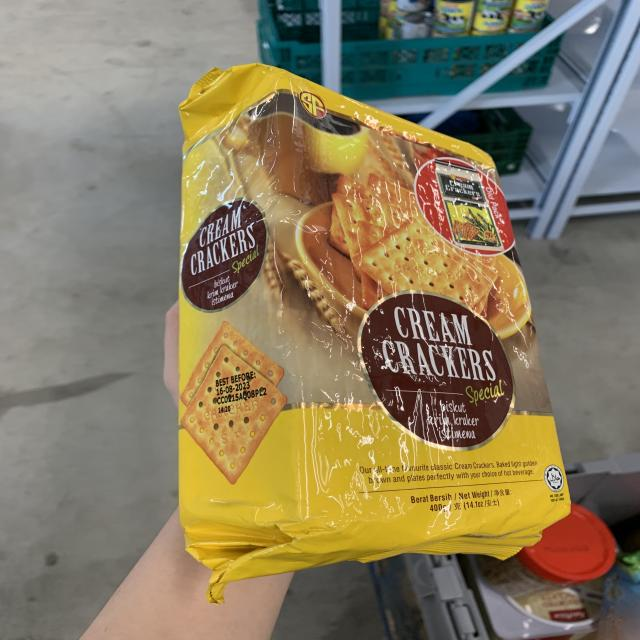object_name: (177, 80, 560, 548)
